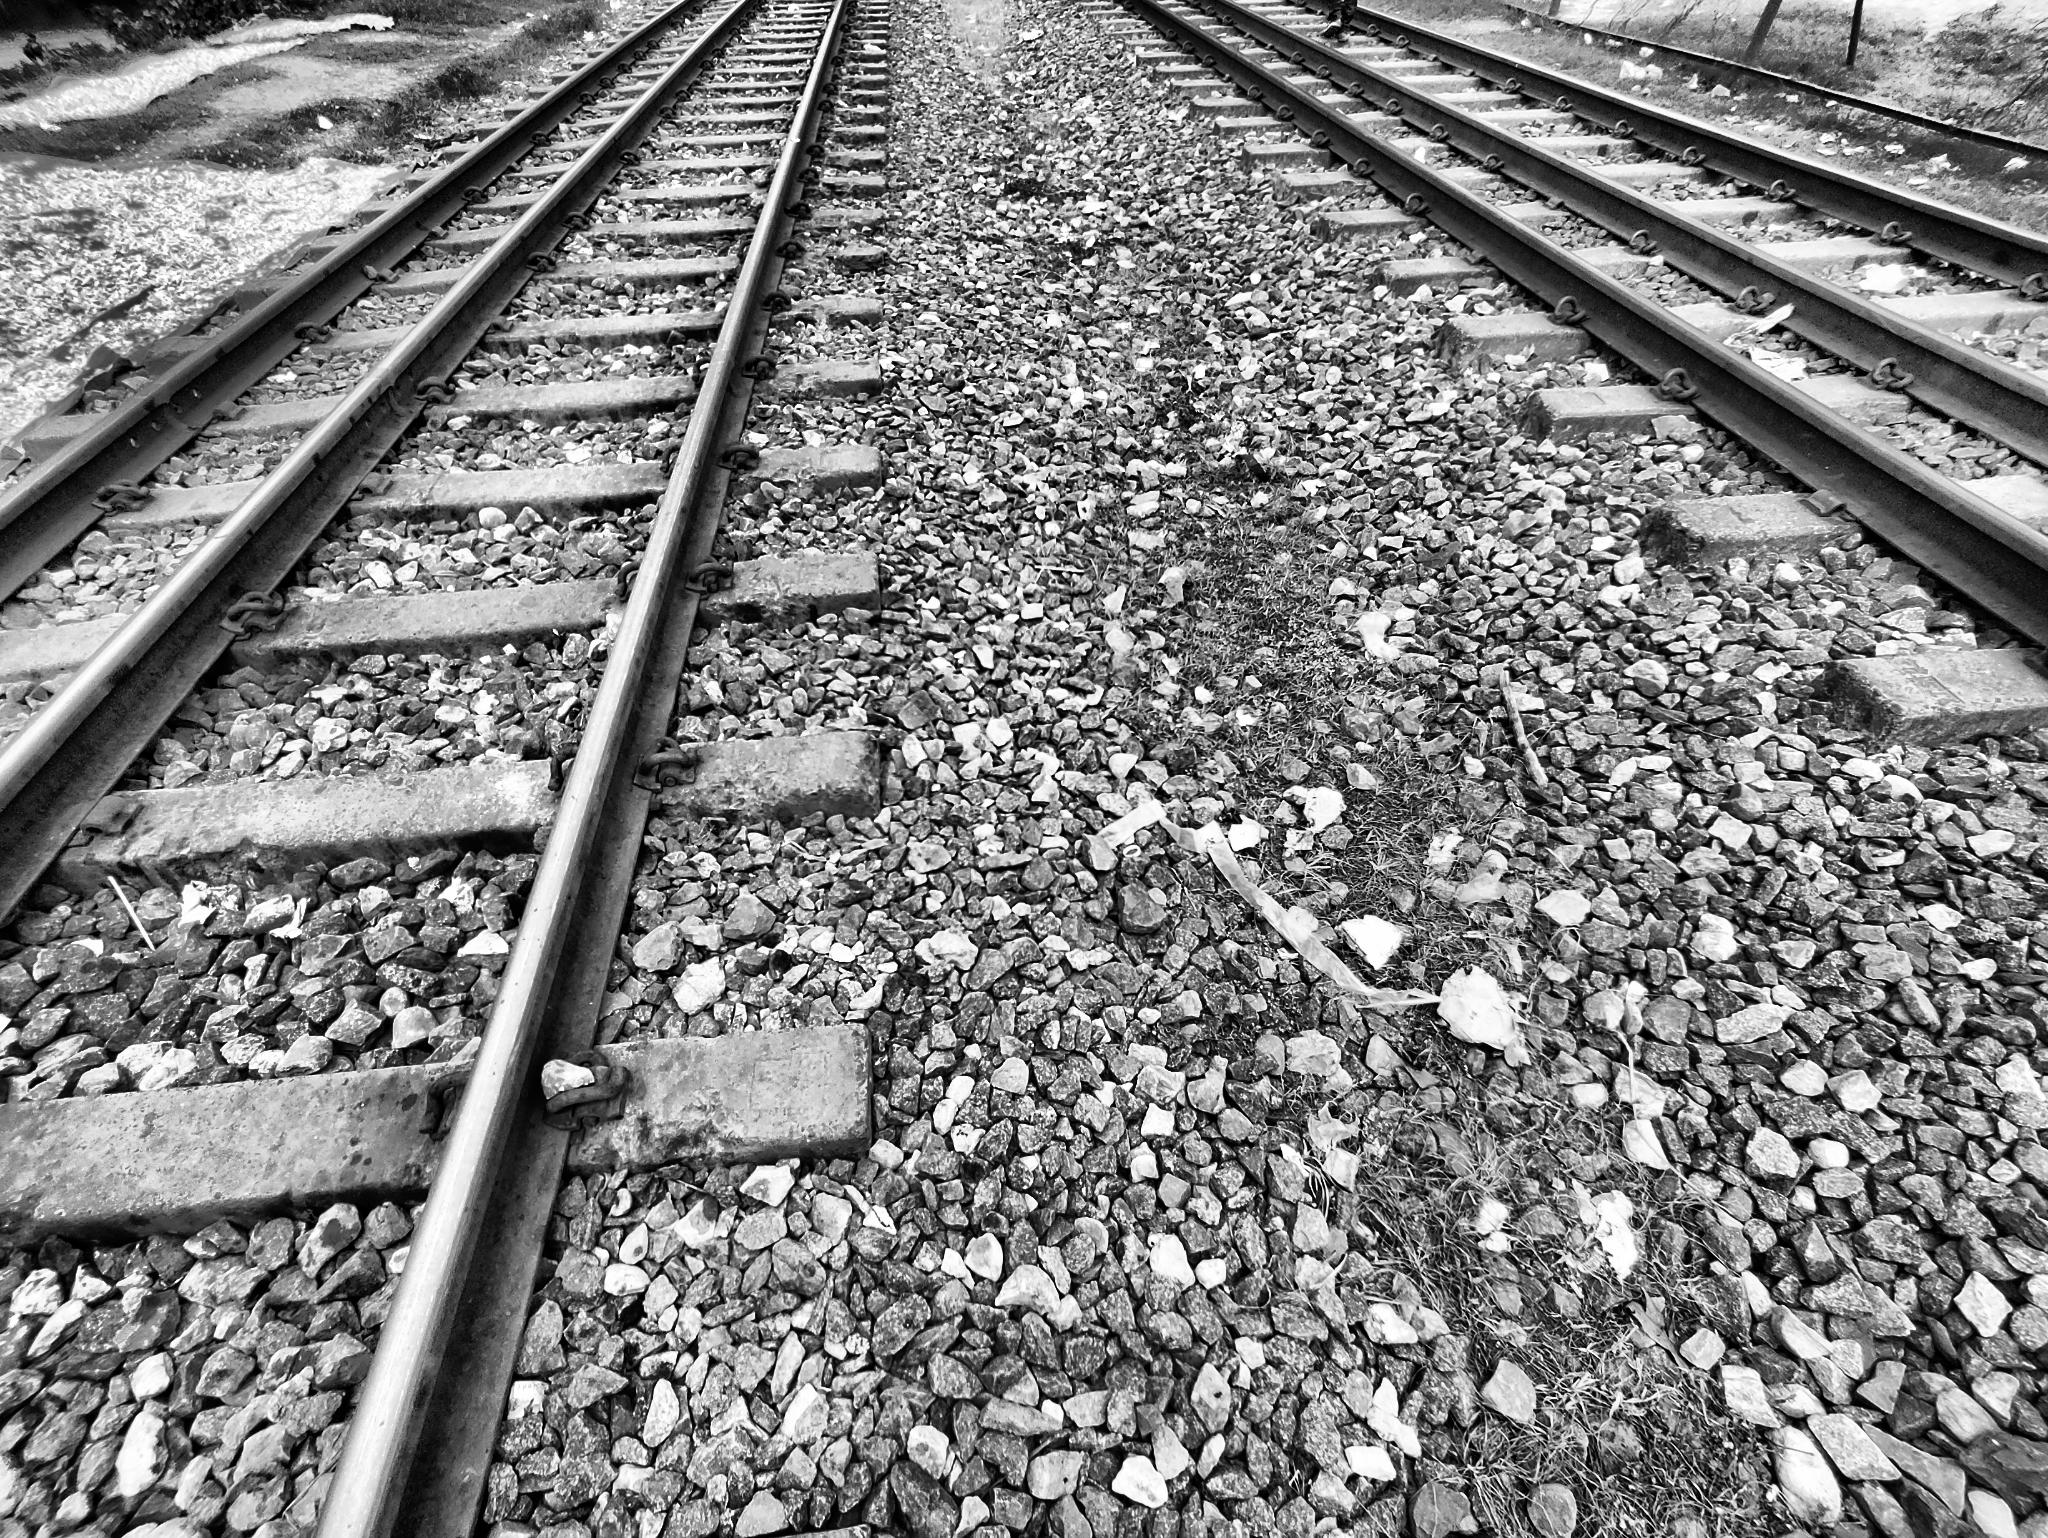Trash: (1087, 790, 1441, 1021), (99, 855, 168, 973), (426, 118, 485, 153)
